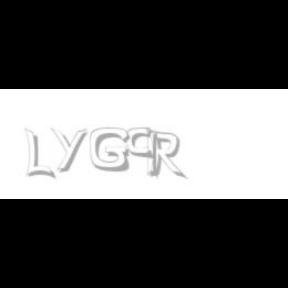G: (90, 128, 130, 172)
L: (25, 128, 53, 180)
R: (146, 128, 184, 180)
c: (126, 128, 156, 160)
l: (146, 128, 162, 180)
y: (51, 128, 91, 172)
